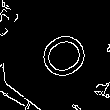O_SW: (22, 24, 88, 86)
